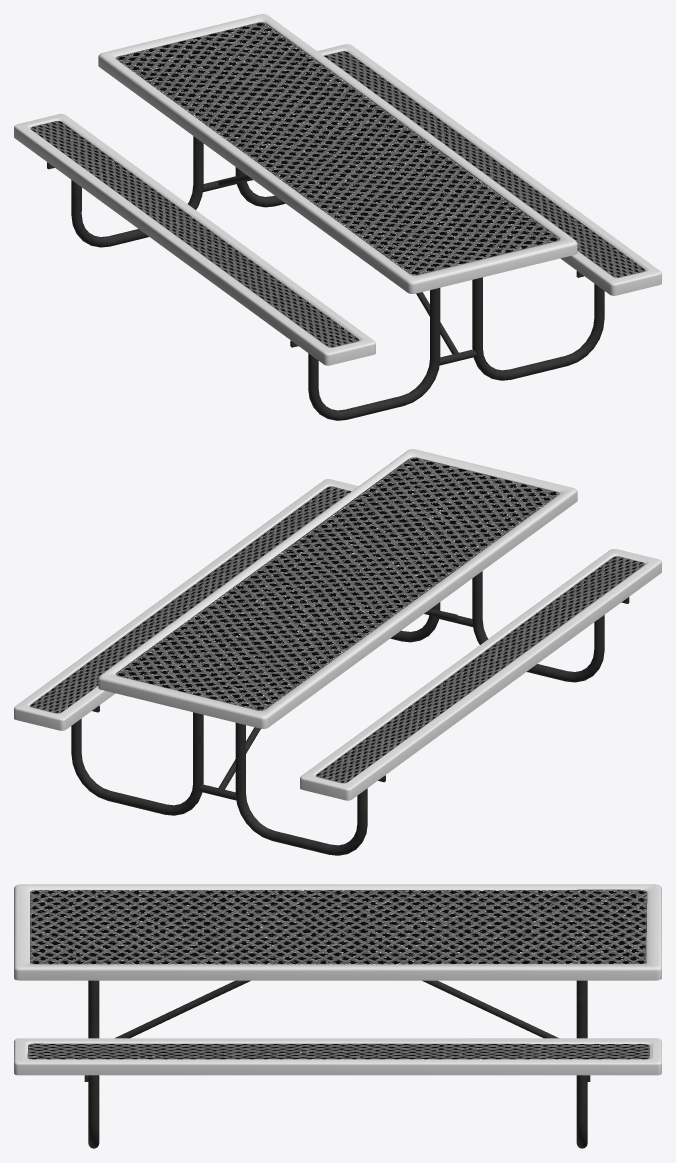
The model's file is gray_picnic_table.dae.
The picture shows the model from 3 angles, top to bottom: view 1: azimuth 30°, elevation 25°; view 2: azimuth 150°, elevation 25°; view 3: azimuth 270°, elevation 25°; orthographic projection. The views are drawn at different scales.
Parts seen in each view (by area): view 1: blue_mesh_table; view 2: blue_mesh_table; view 3: blue_mesh_table.
Part boxes in pixels (x1,y1,x2,y2): blue_mesh_table: [14, 14, 661, 420]; blue_mesh_table: [14, 449, 661, 855]; blue_mesh_table: [14, 884, 661, 1148].
Size of the model in its own units: 1.81 by 2.92 by 0.8115.
Materials: 3 (2 with a texture image).
